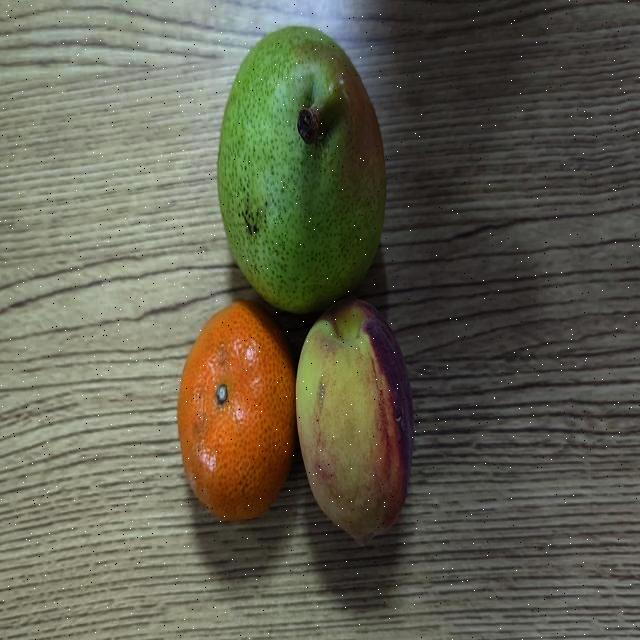Jeruk Mandarin: (183, 306, 290, 515)
Persik: (296, 312, 430, 544)
Pir: (210, 34, 388, 300)
